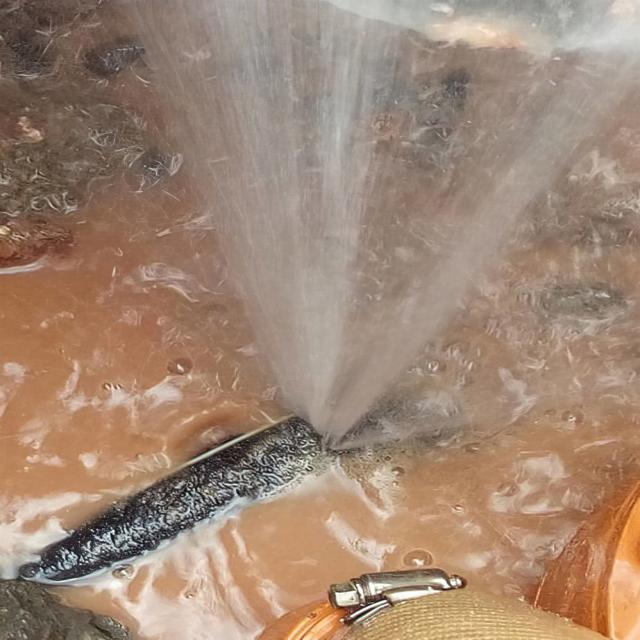leak: (130, 0, 636, 442)
